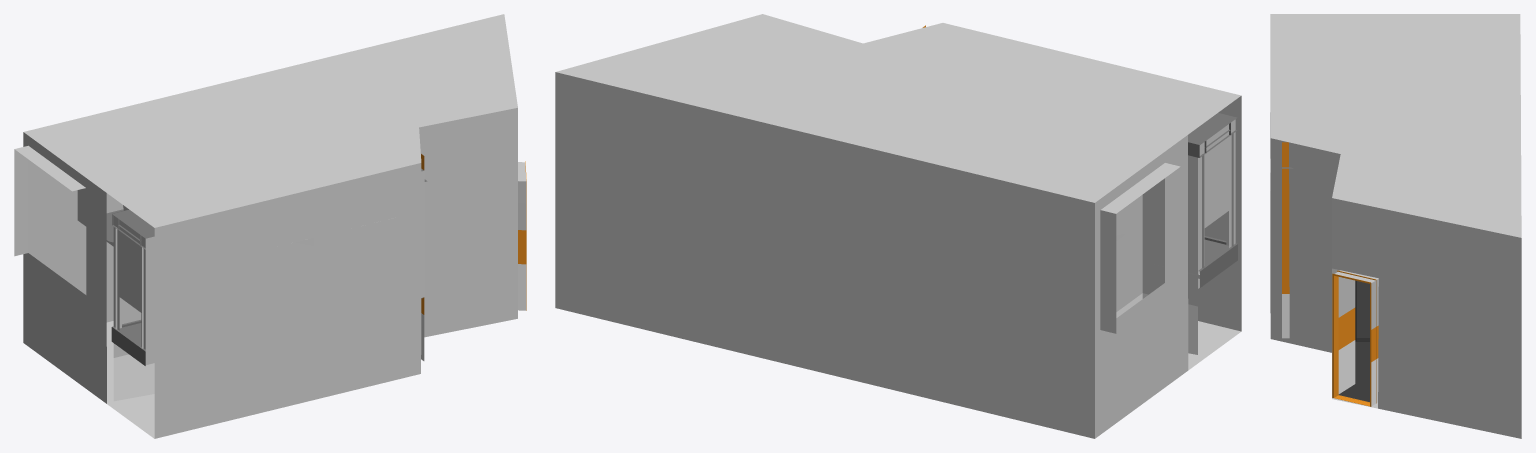
The model's file is SM_H_Building_Tide_Ventilate_01_ATLAS.fbx.
3 views of the same model, side by side, from view 1: azimuth 30°, elevation 25°; view 2: azimuth 150°, elevation 25°; view 3: azimuth 270°, elevation 25° (orthographic). The views are drawn at different scales.
Visible parts, largest first — view 1: SM_H_Building_Tide_Ventilate_01_ATLAS_LOD0; view 2: SM_H_Building_Tide_Ventilate_01_ATLAS_LOD0; view 3: SM_H_Building_Tide_Ventilate_01_ATLAS_LOD0.
Part boxes in pixels (left/top/right/bottom): SM_H_Building_Tide_Ventilate_01_ATLAS_LOD0: left=14, top=14, right=526, bottom=438; SM_H_Building_Tide_Ventilate_01_ATLAS_LOD0: left=555, top=14, right=1241, bottom=438; SM_H_Building_Tide_Ventilate_01_ATLAS_LOD0: left=1270, top=14, right=1521, bottom=438.
Bounding box in the file's own units: 3922 × 1807 × 1595.
